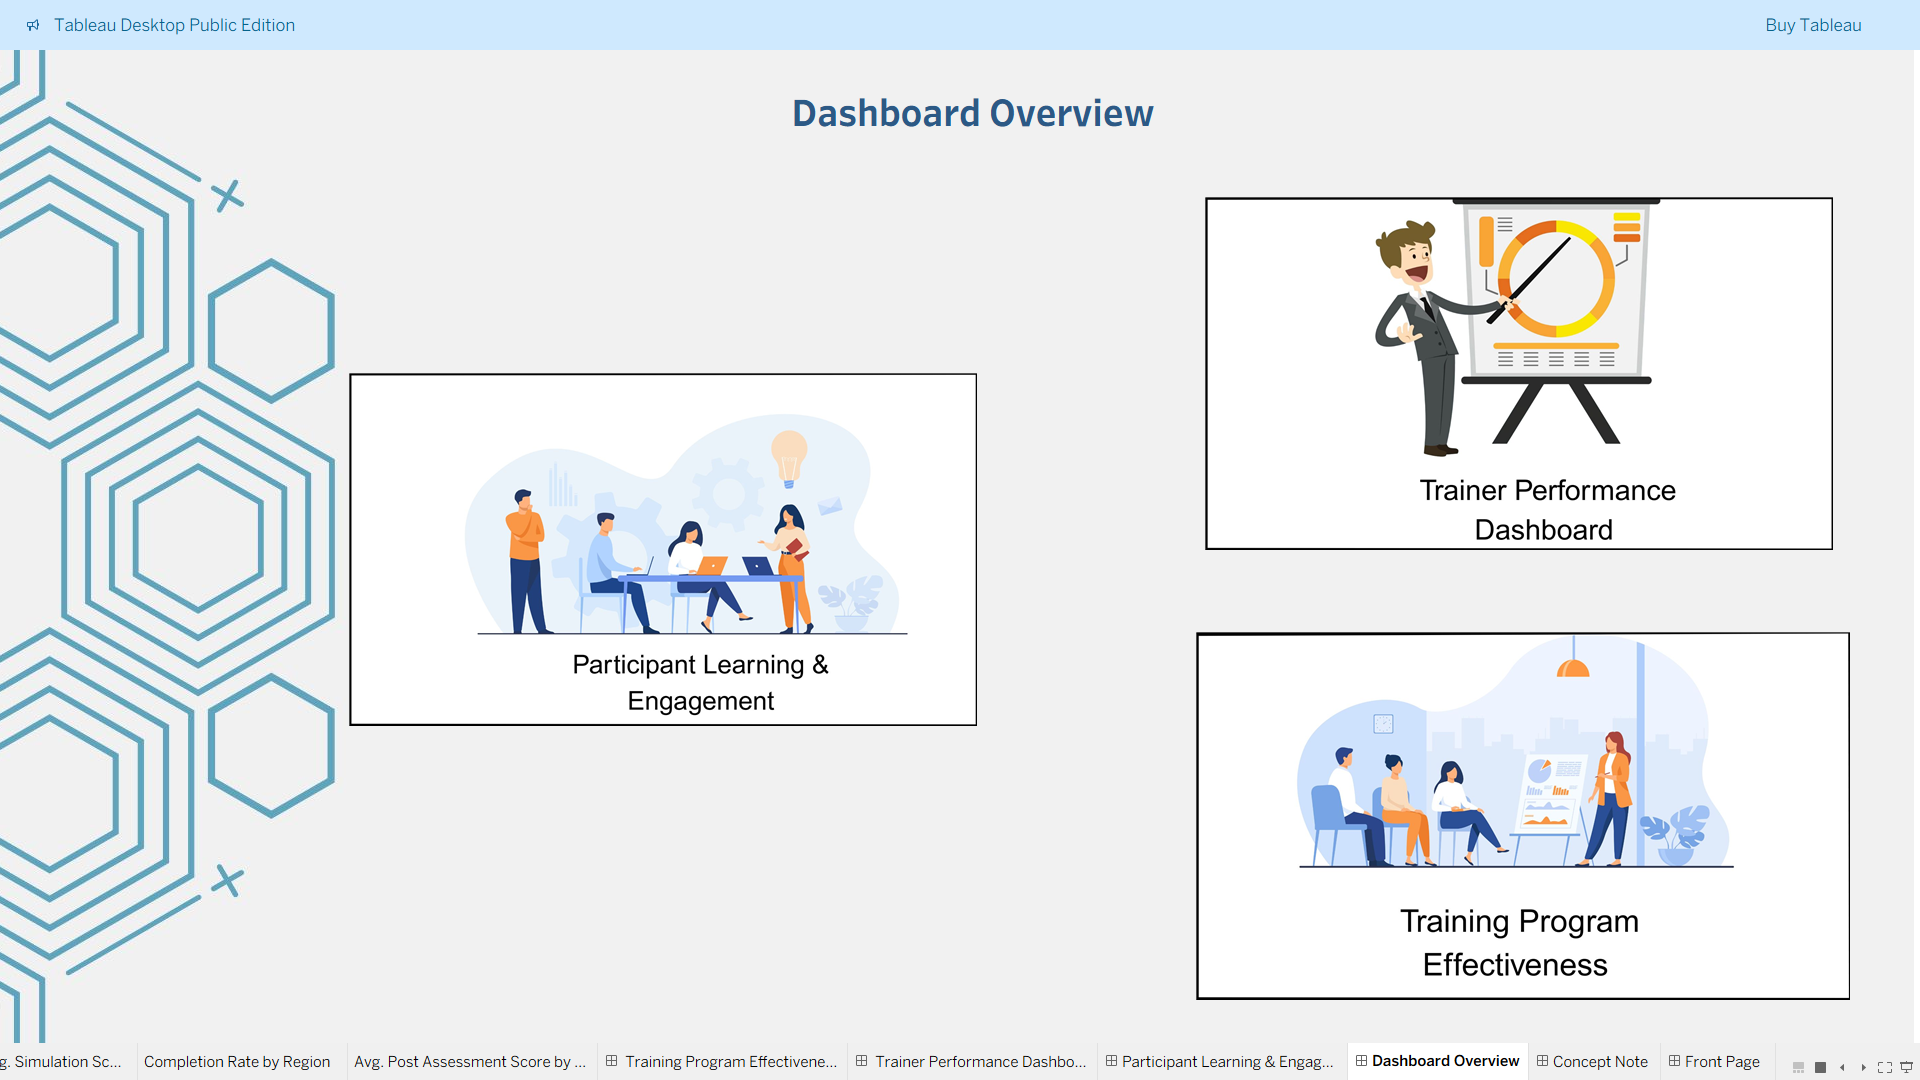

What the dashboard file says about the page in this screenshot:
{"tool":"tableau","page":{"name":"Dashboard Overview","canvas":[1000,1000],"units":"permille","ordinal":3},"visuals":[{"type":"text","box":[232.3,15,549.2,92.4]},{"type":"dashboard-object","box":[627.6,98.6,327.1,455.7]},{"type":"dashboard-object","box":[181.7,275.9,327.1,455.7]},{"type":"dashboard-object","box":[622.8,555.6,341,433.2]}]}

Visuals, with their boxes on the dashboard's canvas, which has no fixed pixel size, in thousandths of its width and height (x1, y1, x2, y2). These are canvas units, not pixel positions in the 1920x1080 screenshot, which may show the page scaled, cropped or inside an application window:
text: (232,15,782,107)
dashboard-object: (628,99,955,554)
dashboard-object: (182,276,509,732)
dashboard-object: (623,556,964,989)
